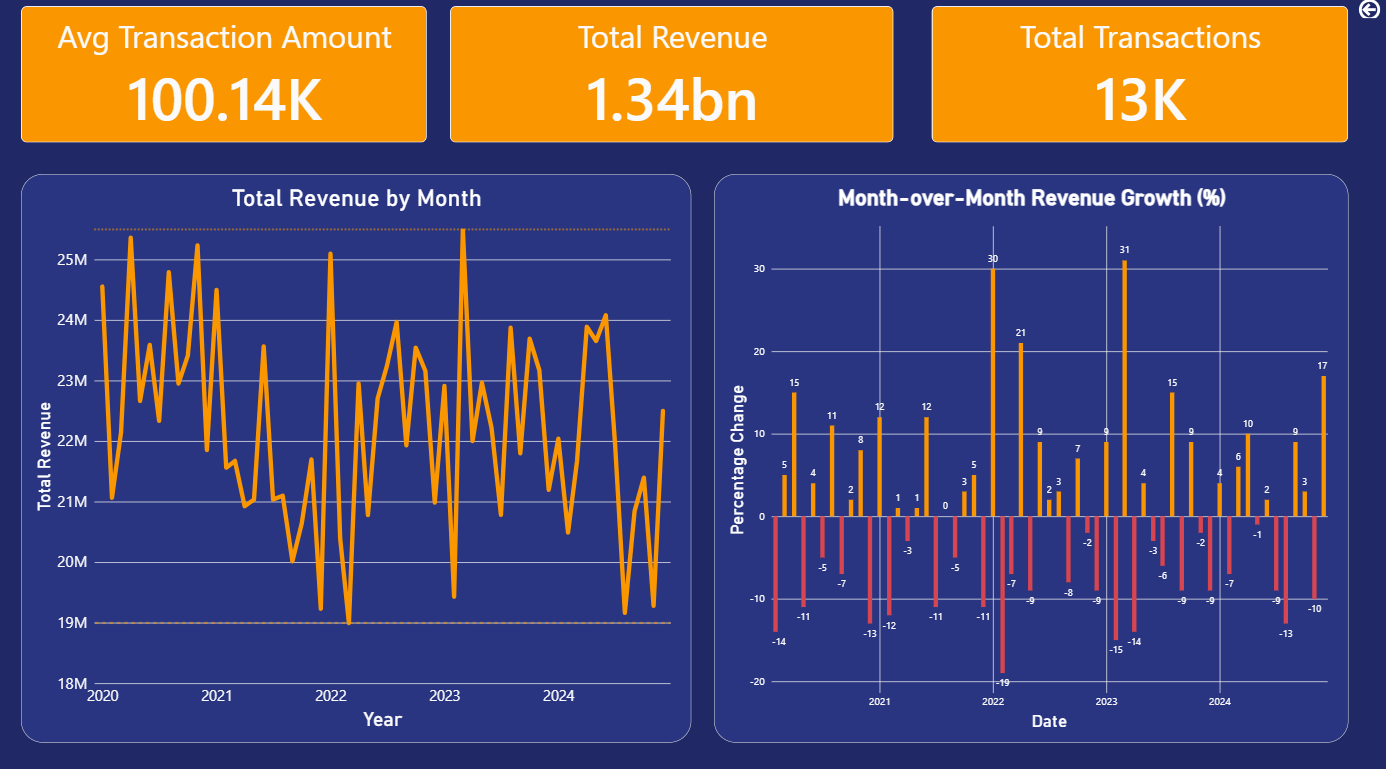

This screenshot's page, from the dashboard's own definition file:
{"tool":"powerbi","page":{"name":"Overview","canvas":[1920,1080],"ordinal":1},"visuals":[{"type":"cardVisual","fields":{"Data":["Sum(public kpi_summary.avg_transaction_amount)"]},"box":[33.1,20.7,560,188],"z":0},{"type":"cardVisual","fields":{"Data":["Sum(public kpi_summary.total_revenue)"]},"box":[624,20.7,611.6,188],"z":1000},{"type":"cardVisual","fields":{"Data":["Sum(public kpi_summary.total_transactions)"]},"box":[1287.3,20.7,574.5,188],"z":2000},{"type":"lineChart","title":"Total Revenue by Month","fields":{"Category":["public monthly_revenue.date_column.Variation.Date Hierarchy.Year","public monthly_revenue.date_column.Variation.Date Hierarchy.Quarter","public monthly_revenue.date_column.Variation.Date Hierarchy.Month","public monthly_revenue.date_column.Variation.Date Hierarchy.Day"],"Y":["Sum(public monthly_revenue.total_revenue)"]},"box":[33.1,252.1,923.7,783.2],"z":3000},{"type":"clusteredColumnChart","title":"Month-over-Month Revenue Growth (%)","fields":{"Category":["public monthly_growth.date"],"Y":["Sum(public monthly_growth.percentage_change)"]},"box":[987.7,252.1,874.1,783.2],"z":4000},{"type":"actionButton","box":[1861.8,0,57.9,43.4],"z":4001}]}

Visuals, with their boxes in screenshot pixels (x1, y1, x2, y2), scaled from the page's 1920x1080 canvas onto the 1386x769 screenshot:
cardVisual - Sum(public kpi_summary.avg_transaction_amount): 24, 15, 428, 149
cardVisual - Sum(public kpi_summary.total_revenue): 450, 15, 892, 149
cardVisual - Sum(public kpi_summary.total_transactions): 929, 15, 1344, 149
"Total Revenue by Month" lineChart: 24, 180, 691, 737
"Month-over-Month Revenue Growth (%)" clusteredColumnChart: 713, 180, 1344, 737
actionButton: 1344, 0, 1385, 31
